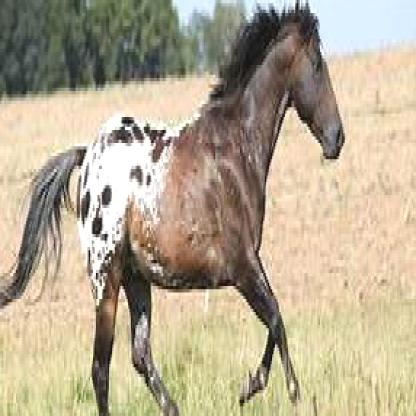horse: (6, 0, 349, 413)
